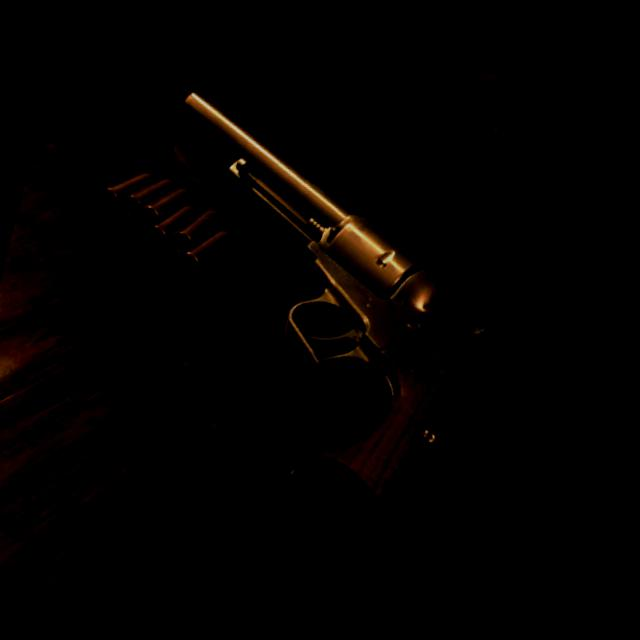handgun: (69, 80, 536, 628)
